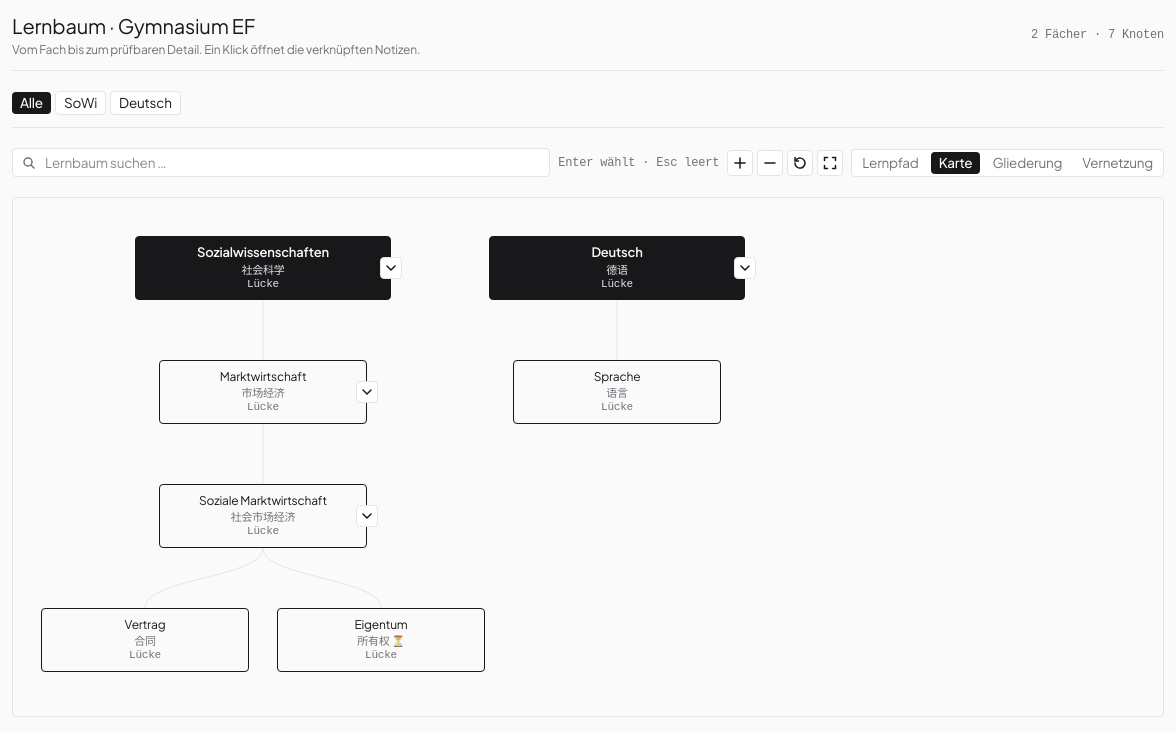
Test case: Lernbaum Falten und Zoom › klappt Äste per Toggle ein und aus
Expected: the button with aria-label "Vertrag ·" is shown, [41, 608, 249, 672]
Click the button named "Ast einklappen: Soziale Marktwirtschaft" at (367, 516), box [356, 505, 378, 527]
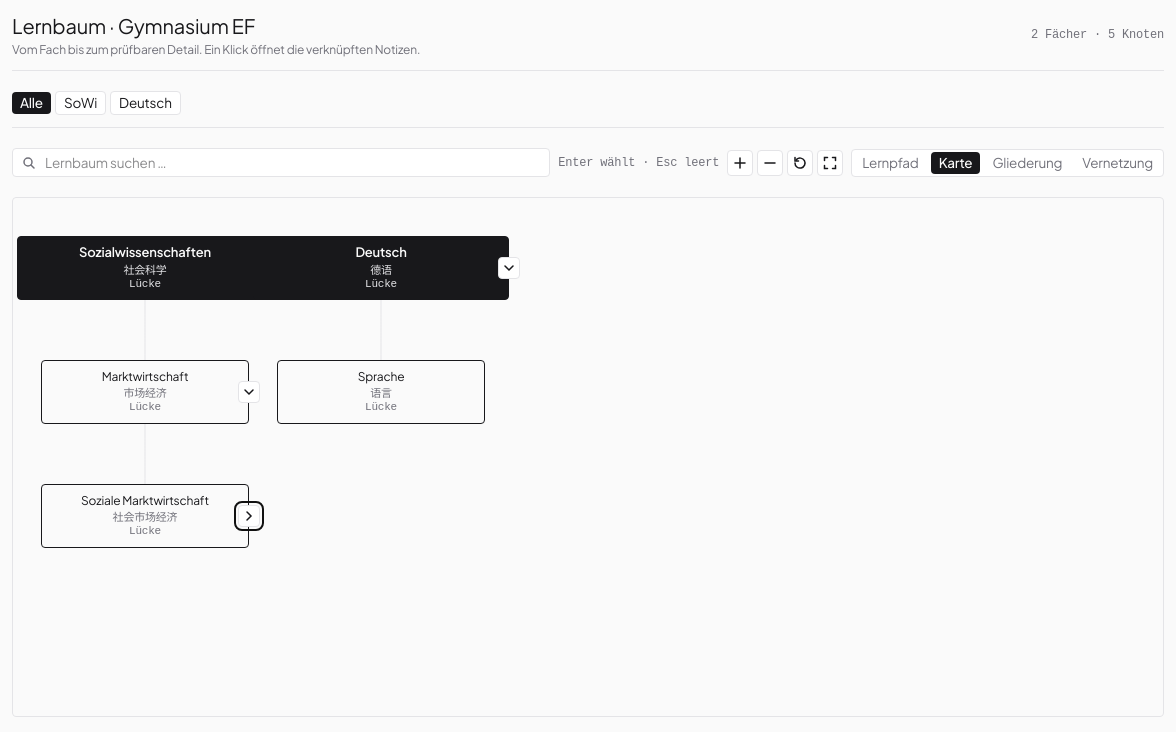
Expected: the button named "Ast aufklappen: Soziale Marktwirtschaft" is collapsed
Click the button named "Ast aufklappen: Soziale Marktwirtschaft" at (249, 516), box [238, 505, 260, 527]
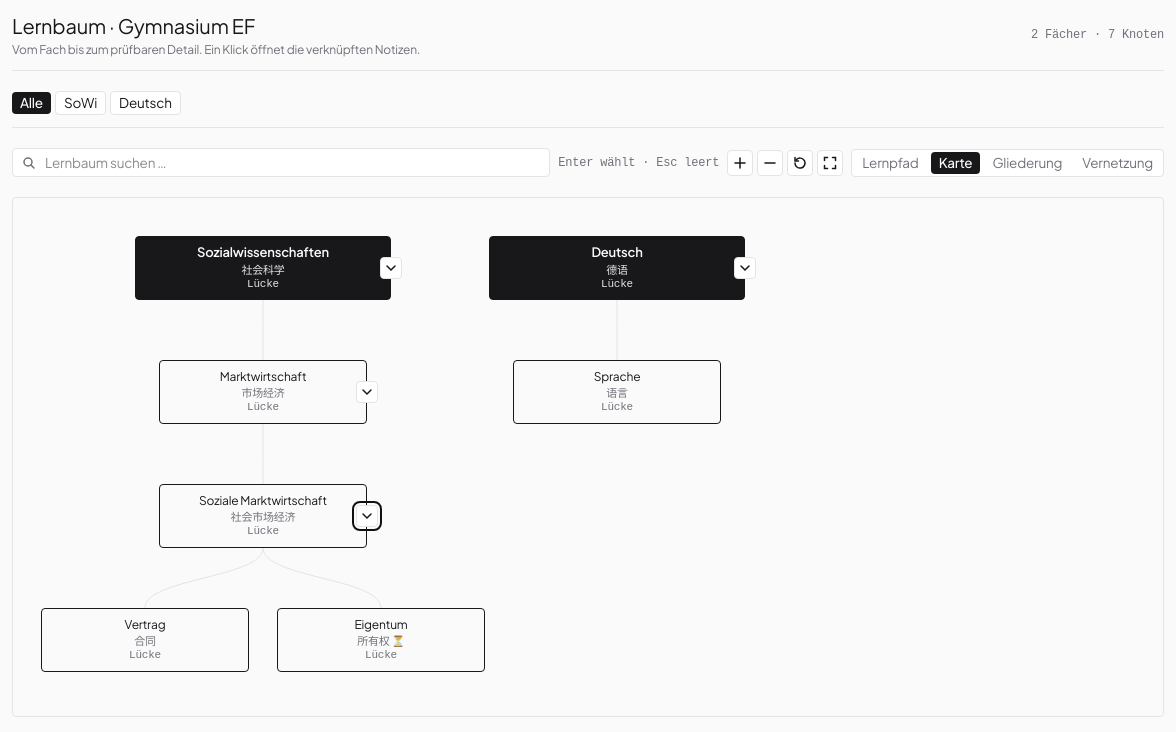
Expected: the button with aria-label "Vertrag ·" is shown, [41, 608, 249, 672]
